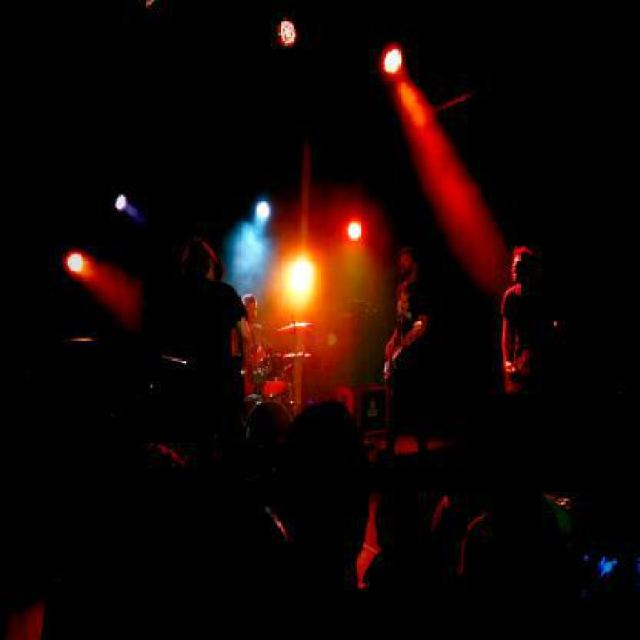Person: (49, 391, 597, 627), (172, 240, 252, 417), (382, 249, 428, 456), (494, 233, 548, 404), (242, 292, 263, 362)
